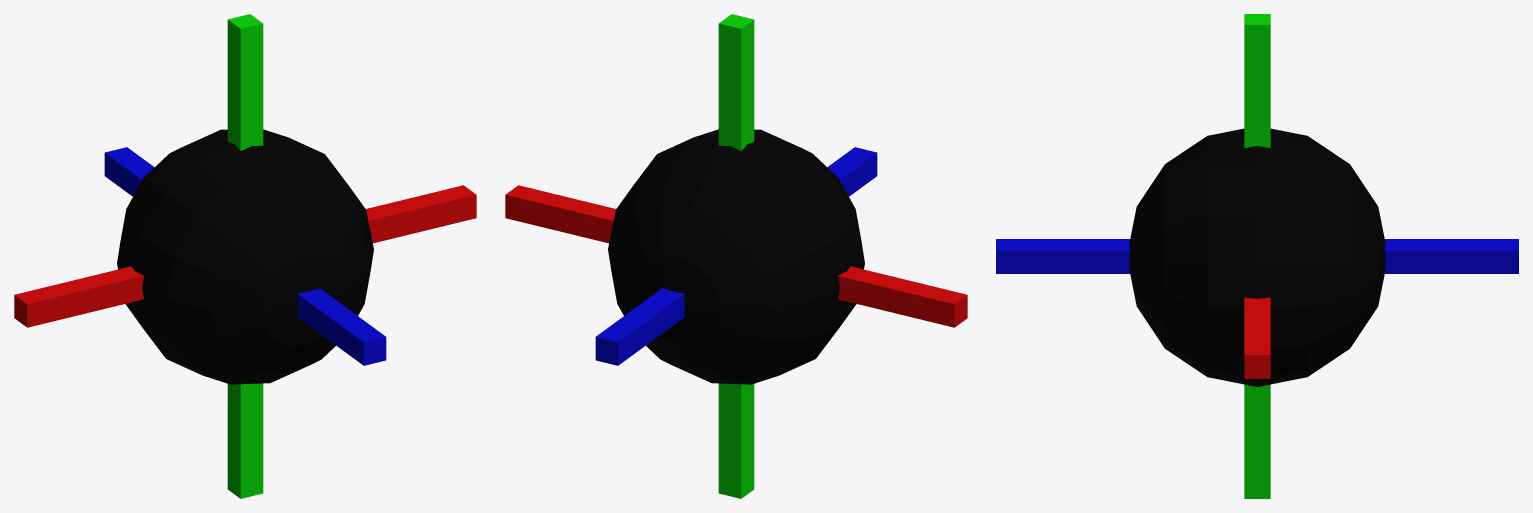
File: att.glb
3 views of the same model, side by side, from view 1: azimuth 30°, elevation 25°; view 2: azimuth 150°, elevation 25°; view 3: azimuth 270°, elevation 25° (orthographic).
Parts seen in each view (by area): view 1: Sphere; view 2: Sphere; view 3: Sphere.
Boxes of the visible parts, x1=… form: Sphere: x1=14, y1=14, x2=476, y2=498; Sphere: x1=505, y1=14, x2=967, y2=498; Sphere: x1=996, y1=14, x2=1518, y2=498.
Size of the model in its own units: 4 by 4 by 4.
